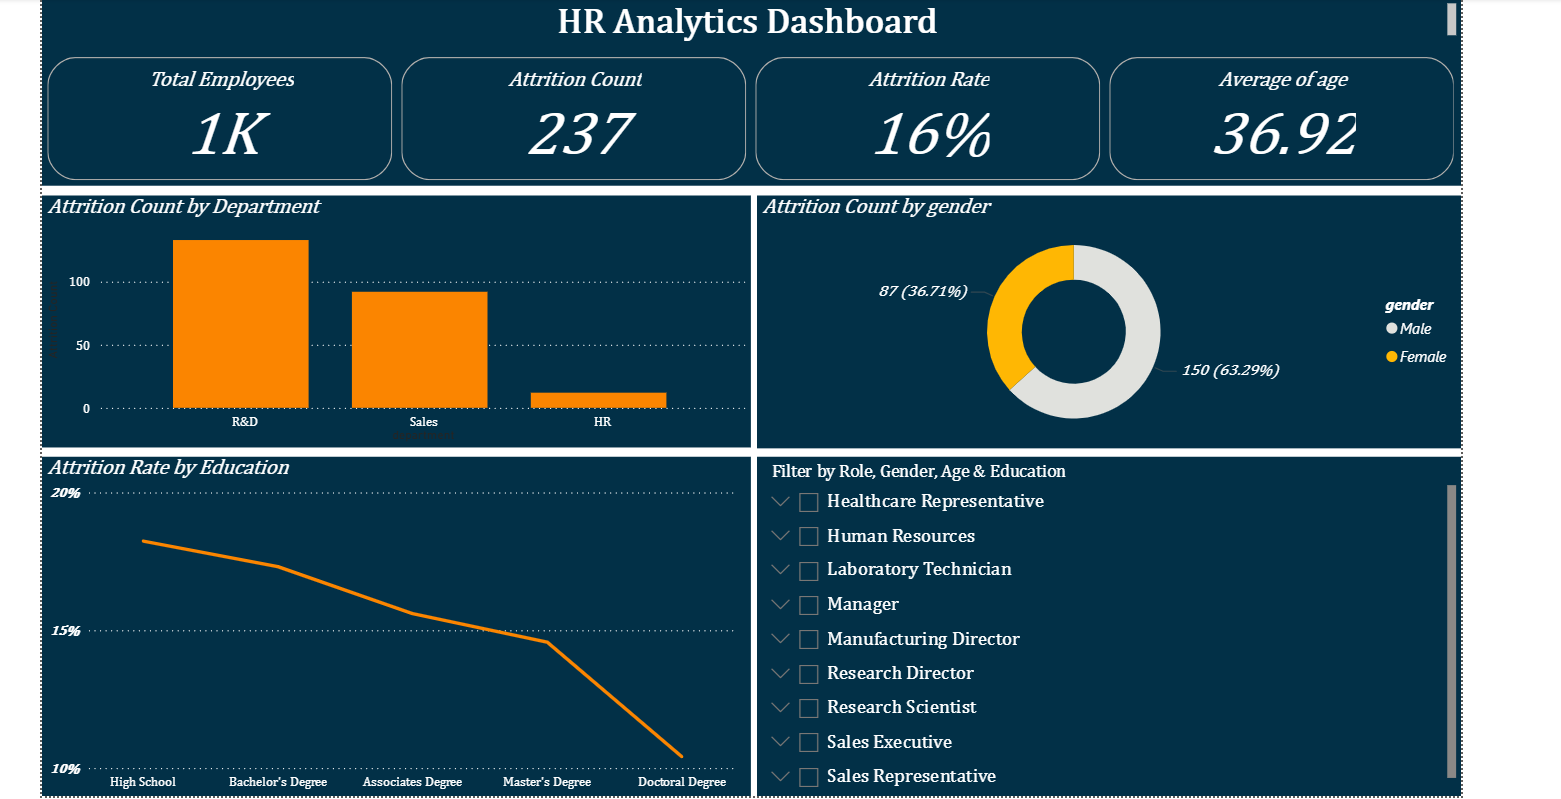

This screenshot's page, from the dashboard's own definition file:
{"tool":"powerbi","page":{"name":"Page 1","canvas":[1280,720],"ordinal":0},"visuals":[{"type":"cardVisual","fields":{"Data":["Table1.Total Employees","Table1.Attrition Count","Table1.Attrition Rate","Avg(Table1.age)"]},"box":[0,48.9,1280.3,121.1],"z":0},{"type":"clusteredColumnChart","title":"Attrition Count by Department","fields":{"Category":["Table1.department"],"Y":["Table1.Attrition Count"]},"box":[0,178.5,639.5,227.4],"z":1000},{"type":"donutChart","fields":{"Category":["Table1.gender"],"Y":["Table1.Attrition Count"]},"box":[644.7,178.1,635.7,227.7],"z":2000},{"type":"lineChart","title":"Attrition Rate by Education","fields":{"Y":["Table1.Attrition Rate"],"Category":["Table1.education"]},"box":[0,413.3,639.5,306.9],"z":3000},{"type":"slicer","fields":{"Values":["Table1.job_role","Table1.gender","Table1.age_band","Table1.education"]},"box":[644.7,413.7,635.7,306.6],"z":4000},{"type":"textbox","box":[0,0,1280.3,48.9],"z":5000}]}

Visuals, with their boxes in screenshot pixels (x1, y1, x2, y2):
cardVisual - Table1.Total Employees x Table1.Attrition Count: (45,54,1449,186)
"Attrition Count by Department" clusteredColumnChart: (45,196,746,445)
donutChart - Table1.gender x Table1.Attrition Count: (752,195,1449,445)
"Attrition Rate by Education" lineChart: (45,453,746,790)
slicer - Table1.job_role x Table1.gender: (752,454,1449,790)
textbox: (45,0,1449,54)
